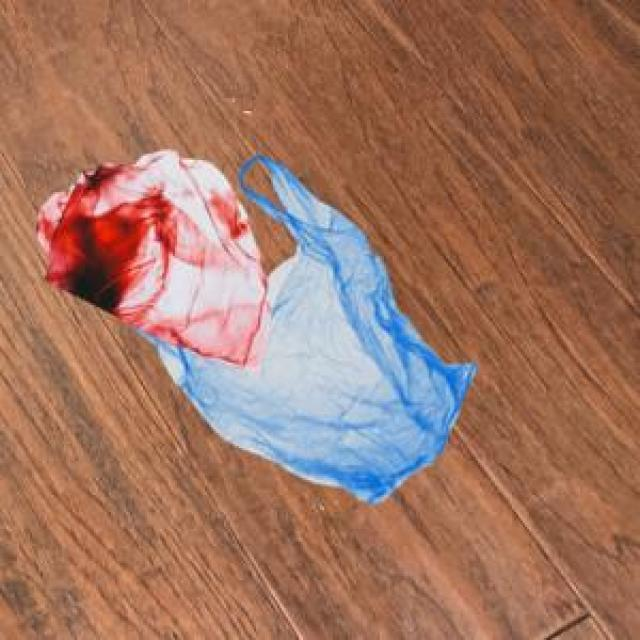Bolsa-de-nilon: (35, 149, 472, 479)
